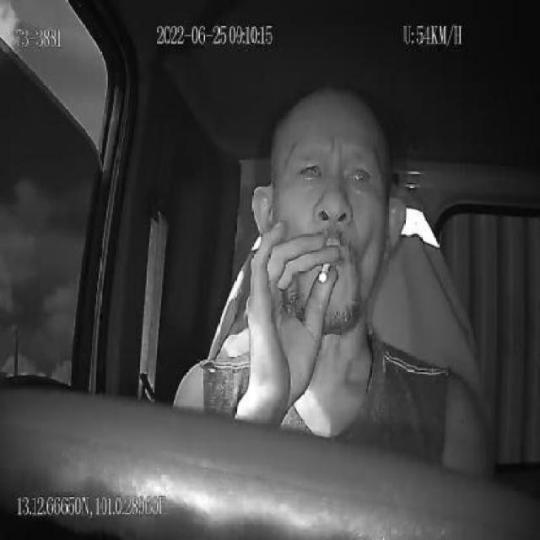smoking: (318, 258, 331, 286)
